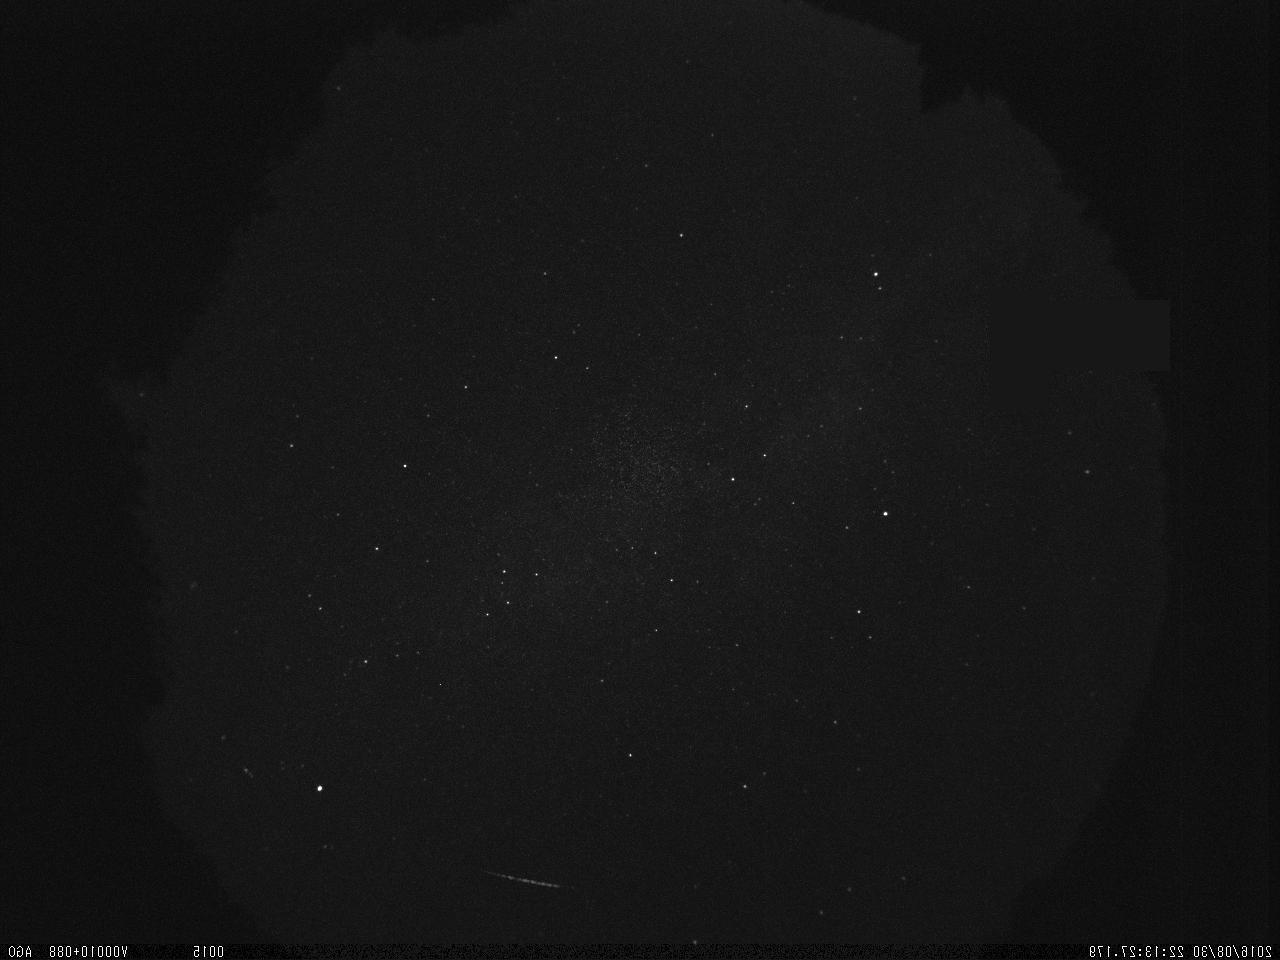meteor: (481, 865, 577, 895)
